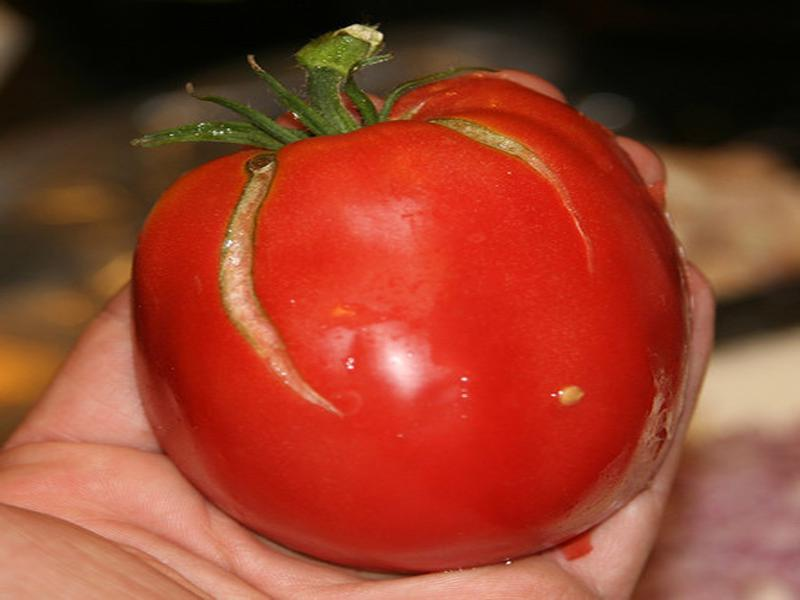Tomato: (139, 76, 688, 572)
